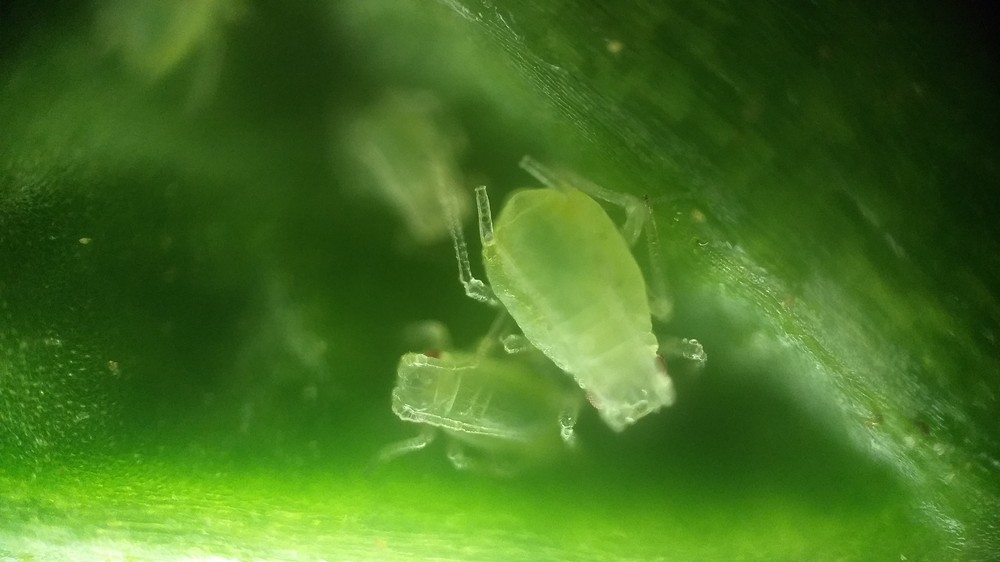Pulgon: (453, 154, 726, 446), (362, 320, 626, 503)
